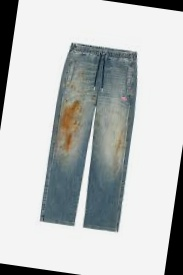earth: (56, 99, 82, 153)
